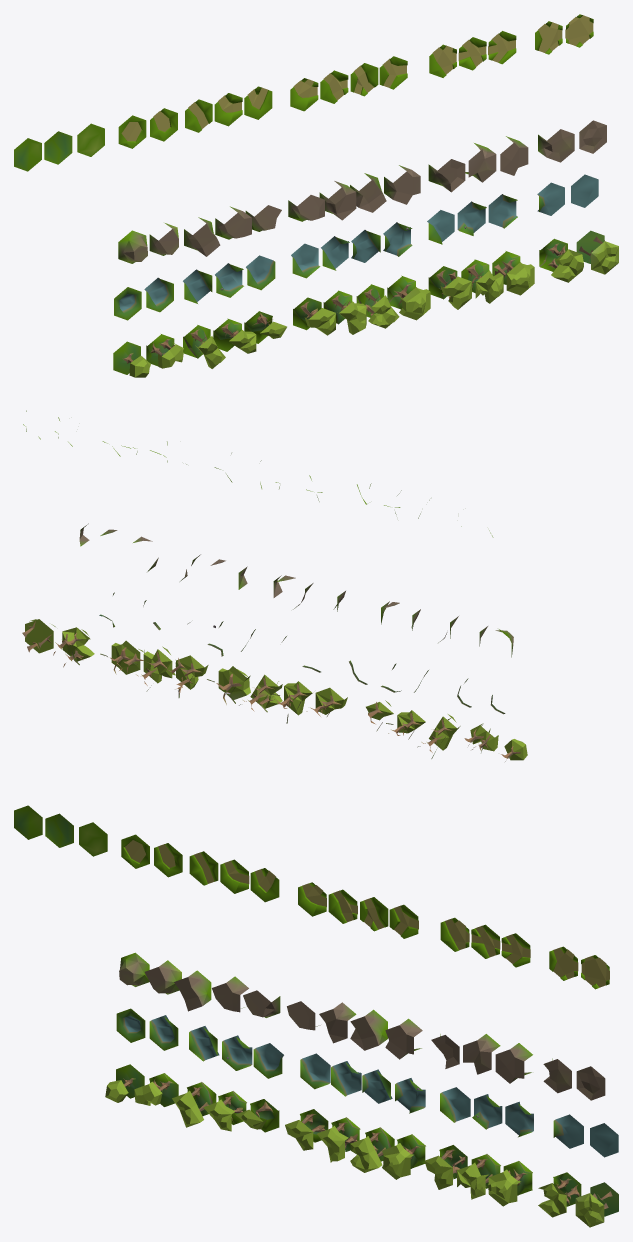
Rendered from Hex.glb.
3 views of the same model, one above another, from view 1: azimuth 30°, elevation 25°; view 2: azimuth 150°, elevation 25°; view 3: azimuth 330°, elevation 25° (orthographic). The views are drawn at different scales.
Visible parts, largest first — view 1: Tree_F, Tree_T4, Tree_H, Tree_Q1, Tree_Q3, Tree_Q2, Tree_T1, Tree_T2, Tree_T3, Tree_P1, Tree_P2, Tree_N (+47 smaller); view 2: Tree_T4, Tree_F, Tree_Q3, Tree_H, Tree_Q2, Tree_Q1, Tree_T3, Tree_T2, Tree_T1, Tree_P1, Tree_E, Tree_P2; view 3: Tree_Q3, Tree_H, Tree_T4, Tree_T3, Tree_F, Tree_Q2, Tree_P1, Tree_Q1, Tree_T2, Mount_T3, Tree_T1, Tree_E (+46 smaller).
Part boxes in pixels (x1,y1,x2,y2): Tree_F: (539, 238, 583, 282); Tree_T4: (387, 275, 430, 320); Tree_H: (576, 230, 618, 274); Tree_Q1: (428, 266, 471, 309); Tree_Q3: (492, 251, 534, 295); Tree_Q2: (461, 259, 503, 303); Tree_T1: (293, 297, 335, 335); Tree_T2: (323, 290, 366, 334); Tree_T3: (356, 284, 399, 328); Tree_P1: (183, 325, 225, 368); Tree_P2: (213, 318, 256, 353); Tree_N: (113, 341, 150, 377); Tree_T4: (207, 666, 250, 704); Tree_F: (53, 627, 94, 667); Tree_Q3: (100, 640, 144, 674); Tree_H: (22, 619, 55, 653); Tree_Q2: (132, 646, 175, 691); Tree_Q1: (168, 655, 208, 697); Tree_T3: (239, 674, 282, 712); Tree_T2: (272, 681, 312, 723); Tree_T1: (306, 687, 347, 716); Tree_P1: (417, 714, 460, 758); Tree_E: (464, 723, 498, 752); Tree_P2: (386, 710, 425, 739); Tree_Q3: (488, 1161, 532, 1206); Tree_H: (575, 1182, 618, 1227); Tree_T4: (382, 1134, 425, 1179); Tree_T3: (350, 1127, 394, 1172); Tree_F: (538, 1172, 581, 1217); Tree_Q2: (457, 1154, 500, 1199); Tree_P1: (172, 1082, 216, 1127); Tree_Q1: (424, 1145, 467, 1189); Tree_T2: (317, 1117, 360, 1162); Mount_T3: (350, 1009, 387, 1050); Tree_T1: (285, 1109, 328, 1150); Tree_E: (134, 1073, 178, 1106).
Size of the model in its own units: 36.69 by 15.67 by 2.43.
